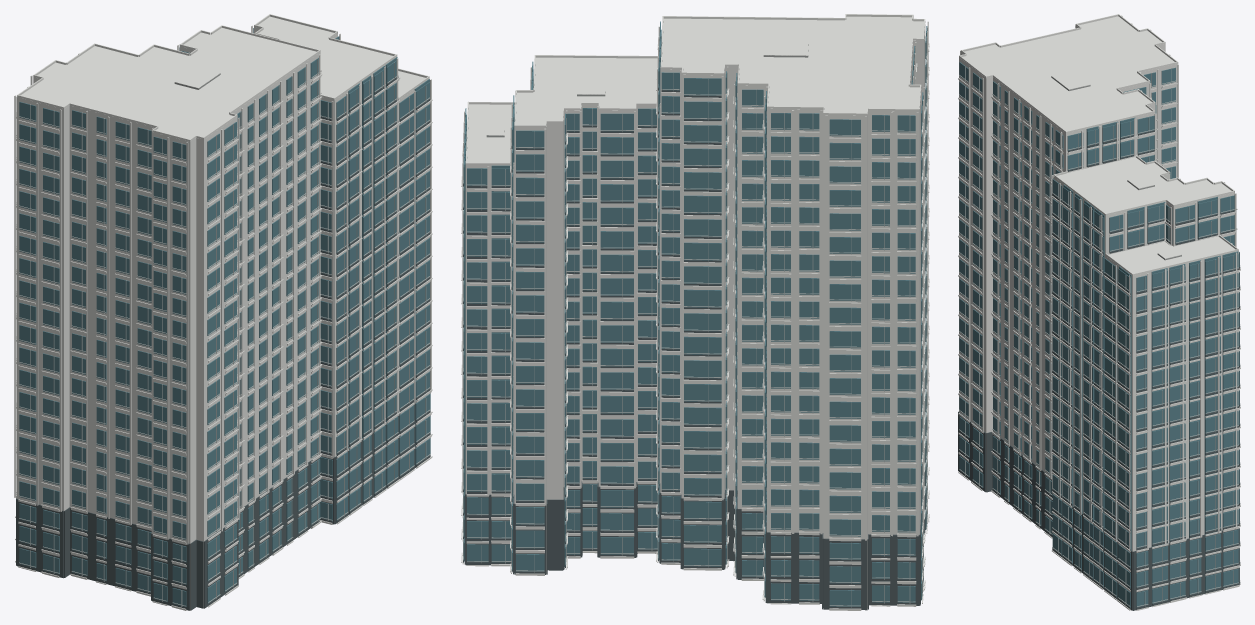
The model's file is bespoke-acro-riverpark-100-corrected.glb.
The picture shows the model from 3 angles, left to right: view 1: azimuth 30°, elevation 25°; view 2: azimuth 150°, elevation 25°; view 3: azimuth 270°, elevation 25°; orthographic projection. The views are drawn at different scales.
Parts seen in each view (by area): view 1: 100_region-0_100_Warm_pale_planes001, 100_region-0_100_Blue_grey_glazing001, 100_region-2_100_Blue_grey_glazing001, 100_region-2_100_Warm_pale_planes001, 100_region-0_100_Silver_thin_mullions001, 100_region-0_100_Charcoal_lower_storeys001, 100_region-1_100_Blue_grey_glazing001, 100_region-2_100_Silver_thin_mullions001, 100_region-2_100_Charcoal_lower_storeys001, 100_region-1_100_Warm_pale_planes001, 100_region-1_100_Charcoal_lower_storeys001, 100_region-1_100_Silver_thin_mullions001; view 2: 100_region-0_100_Warm_pale_planes001, 100_region-0_100_Blue_grey_glazing001, 100_region-2_100_Blue_grey_glazing001, 100_region-2_100_Warm_pale_planes001, 100_region-1_100_Blue_grey_glazing001, 100_region-0_100_Silver_thin_mullions001, 100_region-0_100_Charcoal_lower_storeys001, 100_region-1_100_Warm_pale_planes001, 100_region-2_100_Charcoal_lower_storeys001, 100_region-2_100_Silver_thin_mullions001, 100_region-1_100_Charcoal_lower_storeys001, 100_region-1_100_Silver_thin_mullions001; view 3: 100_region-0_100_Warm_pale_planes001, 100_region-1_100_Blue_grey_glazing001, 100_region-0_100_Blue_grey_glazing001, 100_region-1_100_Warm_pale_planes001, 100_region-2_100_Blue_grey_glazing001, 100_region-2_100_Warm_pale_planes001, 100_region-1_100_Charcoal_lower_storeys001, 100_region-0_100_Silver_thin_mullions001, 100_region-1_100_Silver_thin_mullions001, 100_region-2_100_Silver_thin_mullions001, 100_region-0_100_Charcoal_lower_storeys001, 100_region-2_100_Charcoal_lower_storeys001.
Boxes of the visible parts, box(x1,y1,x2,y2) form: 100_region-0_100_Warm_pale_planes001: box(14, 25, 322, 610); 100_region-0_100_Blue_grey_glazing001: box(19, 47, 320, 606); 100_region-2_100_Blue_grey_glazing001: box(253, 28, 398, 521); 100_region-2_100_Warm_pale_planes001: box(251, 14, 400, 524); 100_region-0_100_Silver_thin_mullions001: box(16, 52, 320, 606); 100_region-0_100_Charcoal_lower_storeys001: box(16, 455, 320, 610); 100_region-1_100_Blue_grey_glazing001: box(399, 79, 430, 477); 100_region-2_100_Silver_thin_mullions001: box(320, 62, 398, 520); 100_region-2_100_Charcoal_lower_storeys001: box(320, 76, 398, 524); 100_region-1_100_Warm_pale_planes001: box(398, 68, 432, 479); 100_region-1_100_Charcoal_lower_storeys001: box(398, 99, 430, 479); 100_region-1_100_Silver_thin_mullions001: box(400, 85, 430, 475); 100_region-0_100_Warm_pale_planes001: box(656, 14, 929, 610); 100_region-0_100_Blue_grey_glazing001: box(658, 21, 927, 606); 100_region-2_100_Blue_grey_glazing001: box(512, 61, 658, 571); 100_region-2_100_Warm_pale_planes001: box(510, 55, 660, 575); 100_region-1_100_Blue_grey_glazing001: box(463, 108, 512, 562); 100_region-0_100_Silver_thin_mullions001: box(657, 27, 927, 607); 100_region-0_100_Charcoal_lower_storeys001: box(658, 88, 925, 610); 100_region-1_100_Warm_pale_planes001: box(461, 101, 515, 566); 100_region-2_100_Charcoal_lower_storeys001: box(511, 125, 659, 574); 100_region-2_100_Silver_thin_mullions001: box(511, 67, 657, 572); 100_region-1_100_Charcoal_lower_storeys001: box(463, 184, 513, 565); 100_region-1_100_Silver_thin_mullions001: box(463, 113, 511, 563); 100_region-0_100_Warm_pale_planes001: box(958, 14, 1178, 538); 100_region-1_100_Blue_grey_glazing001: box(1104, 251, 1239, 607); 100_region-0_100_Blue_grey_glazing001: box(959, 62, 1175, 535); 100_region-1_100_Warm_pale_planes001: box(1104, 235, 1240, 610); 100_region-2_100_Blue_grey_glazing001: box(1052, 174, 1234, 587); 100_region-2_100_Warm_pale_planes001: box(1051, 155, 1237, 589); 100_region-1_100_Charcoal_lower_storeys001: box(1104, 267, 1240, 610); 100_region-0_100_Silver_thin_mullions001: box(959, 66, 1176, 534); 100_region-1_100_Silver_thin_mullions001: box(1104, 255, 1240, 606); 100_region-2_100_Silver_thin_mullions001: box(1052, 184, 1234, 586); 100_region-0_100_Charcoal_lower_storeys001: box(958, 130, 1154, 537); 100_region-2_100_Charcoal_lower_storeys001: box(1052, 193, 1234, 589).
Size of the model in its own units: 69.5 by 74 by 45.64.
